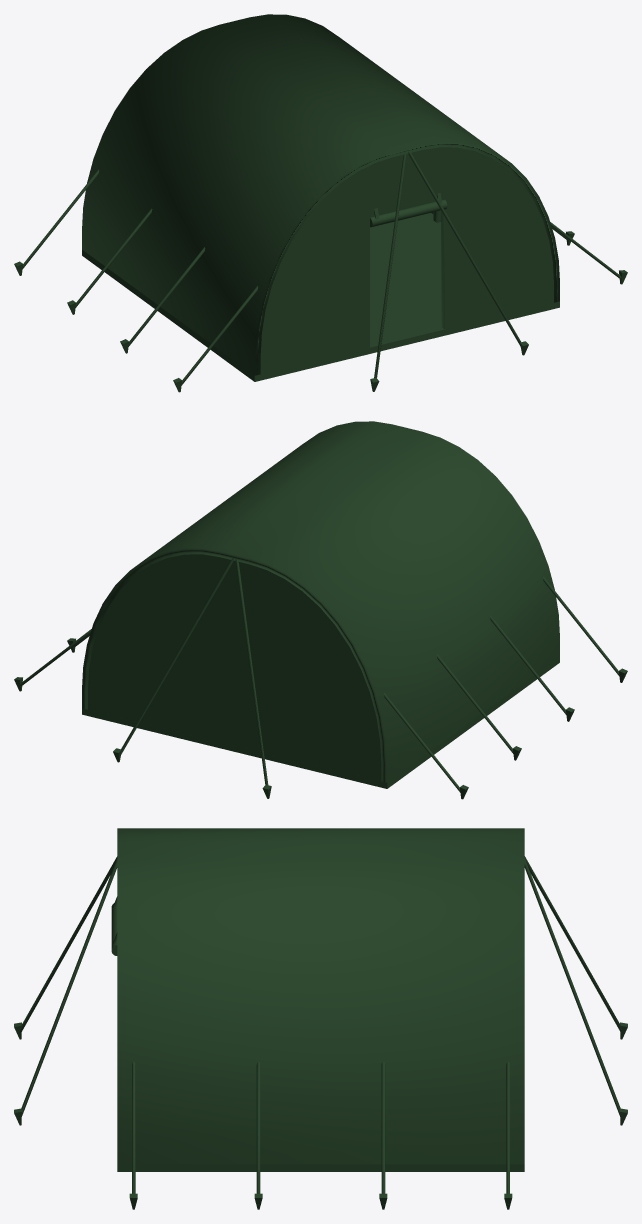
File: CampTent.fbx
3 views of the same model, one above another, from view 1: azimuth 30°, elevation 25°; view 2: azimuth 150°, elevation 25°; view 3: azimuth 270°, elevation 25° (orthographic). The views are drawn at different scales.
Parts seen in each view (by area): view 1: CampTent; view 2: CampTent; view 3: CampTent.
Part boxes in pixels (x1,y1,x2,y2): CampTent: (14,14,627,392); CampTent: (14,421,627,799); CampTent: (14,828,627,1209).
Size of the model in its own units: 7.54 by 3.15 by 7.54.
